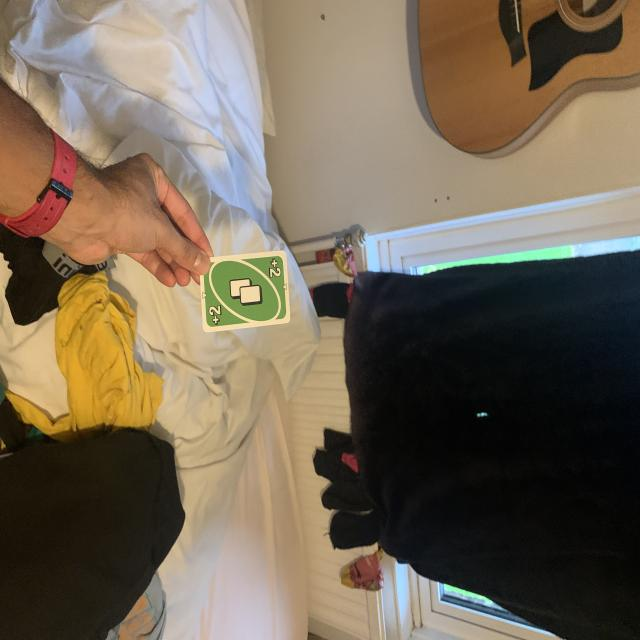lgreen-20: (264, 258, 285, 282)
